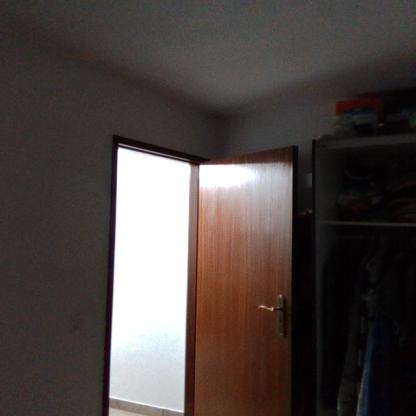open: (101, 122, 309, 416)
